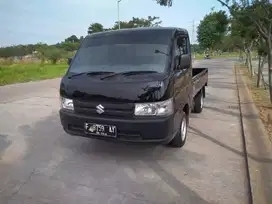plate: (85, 122, 116, 137)
